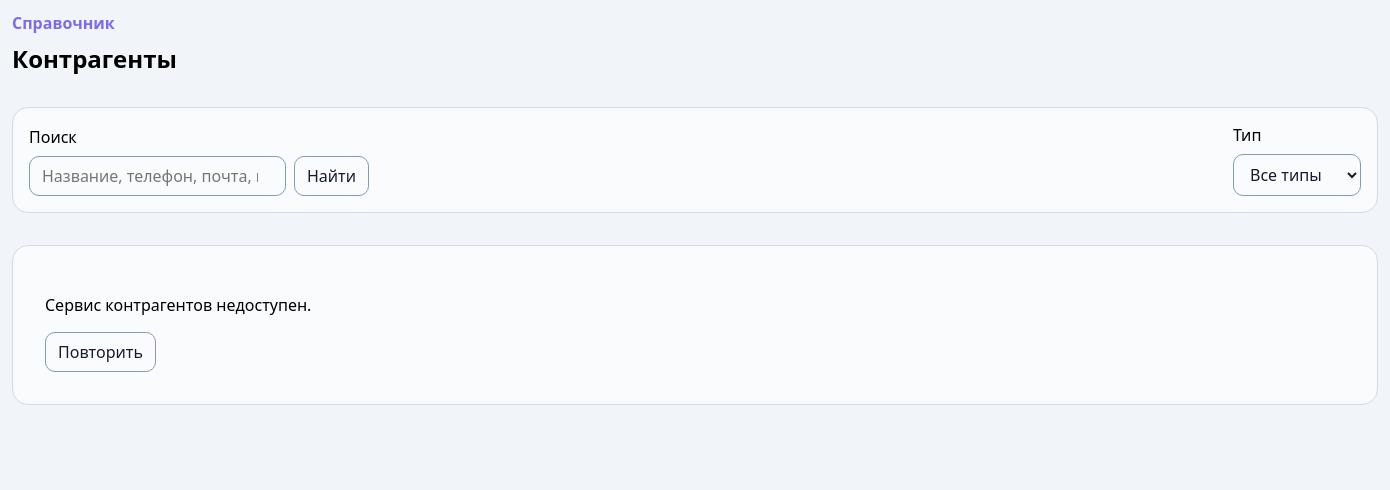
Test: Contragents directory › shows a failure state with retry and resolves lookup identifiers used by Create Order
Expected: the message "Сервис контрагентов недоступен. Повторить" is shown, [12, 245, 1378, 405]
Click the button "Повторить" at (100, 352), box [45, 332, 156, 372]
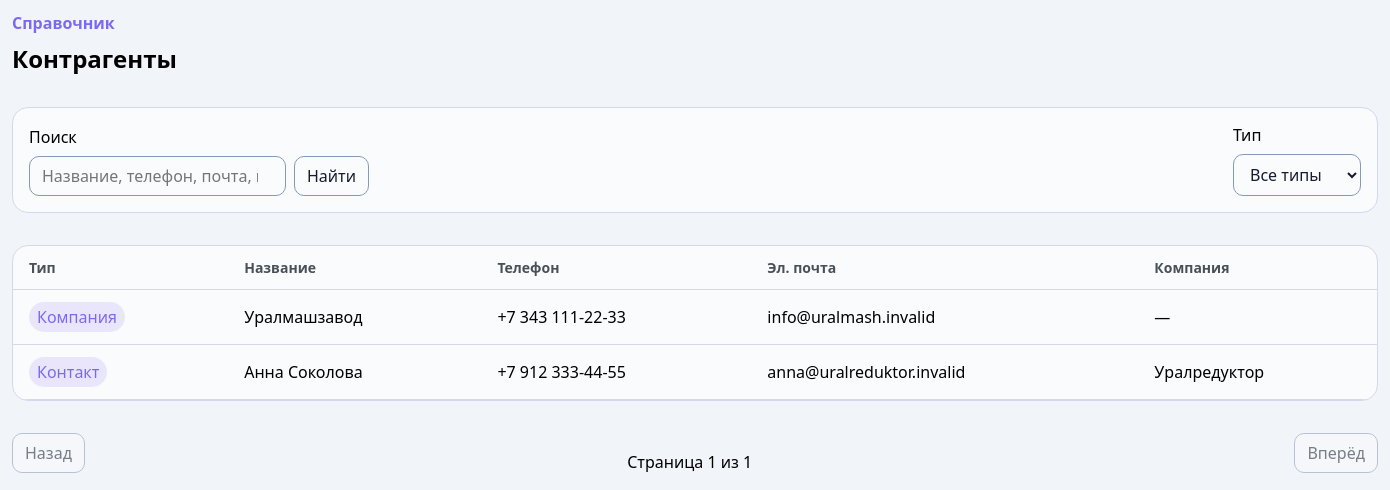
Now the row that starts with "Компания" shows "Уралмашзавод", box [244, 306, 362, 328]
